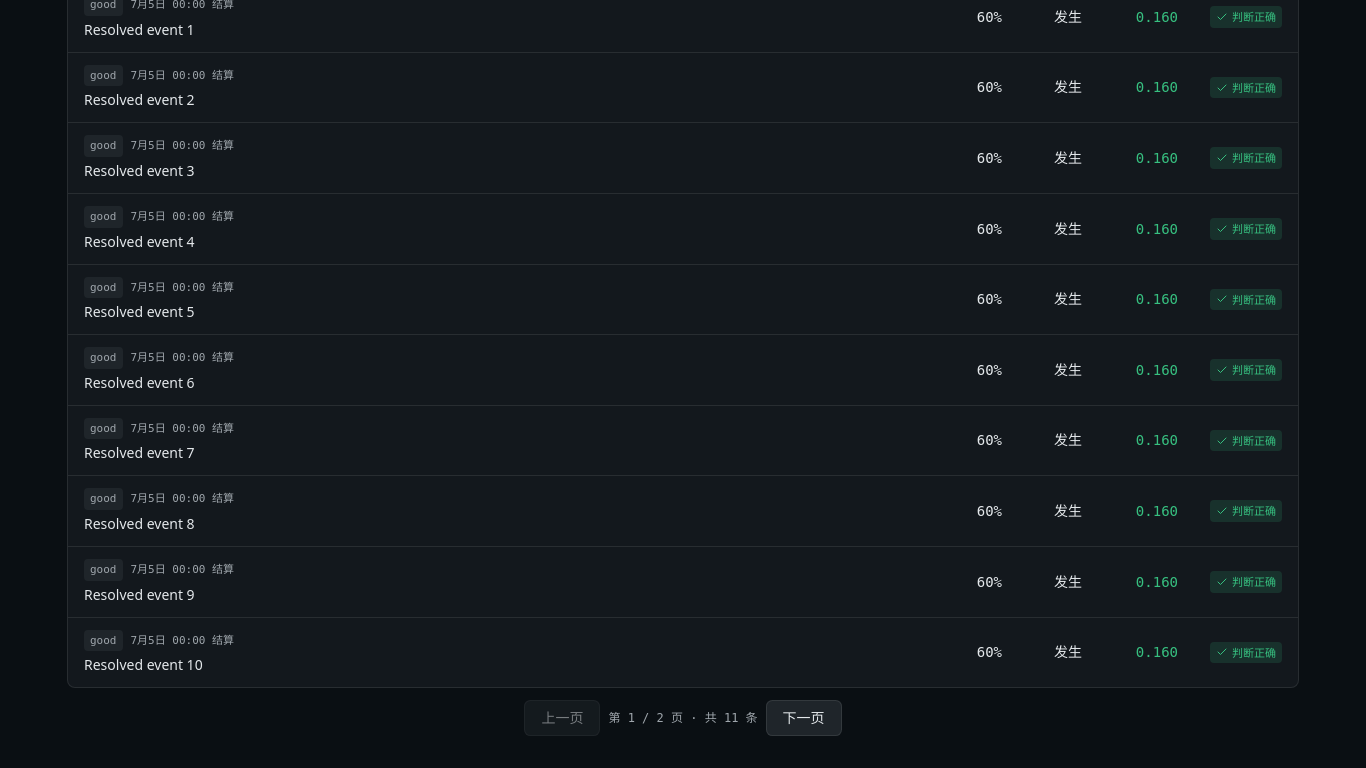
Test: HistoryPage › paginates resolved reviews with 10 records per page
The image size is (1366, 768).
(page scrolled)
Expected: the link "Resolved event 1" is shown, [84,20,195,39]
Expected: the text "Resolved event 11" is not shown
Click the button "下一页": {"x": 804, "y": 718} [766,700,842,736]
(page scrolled)
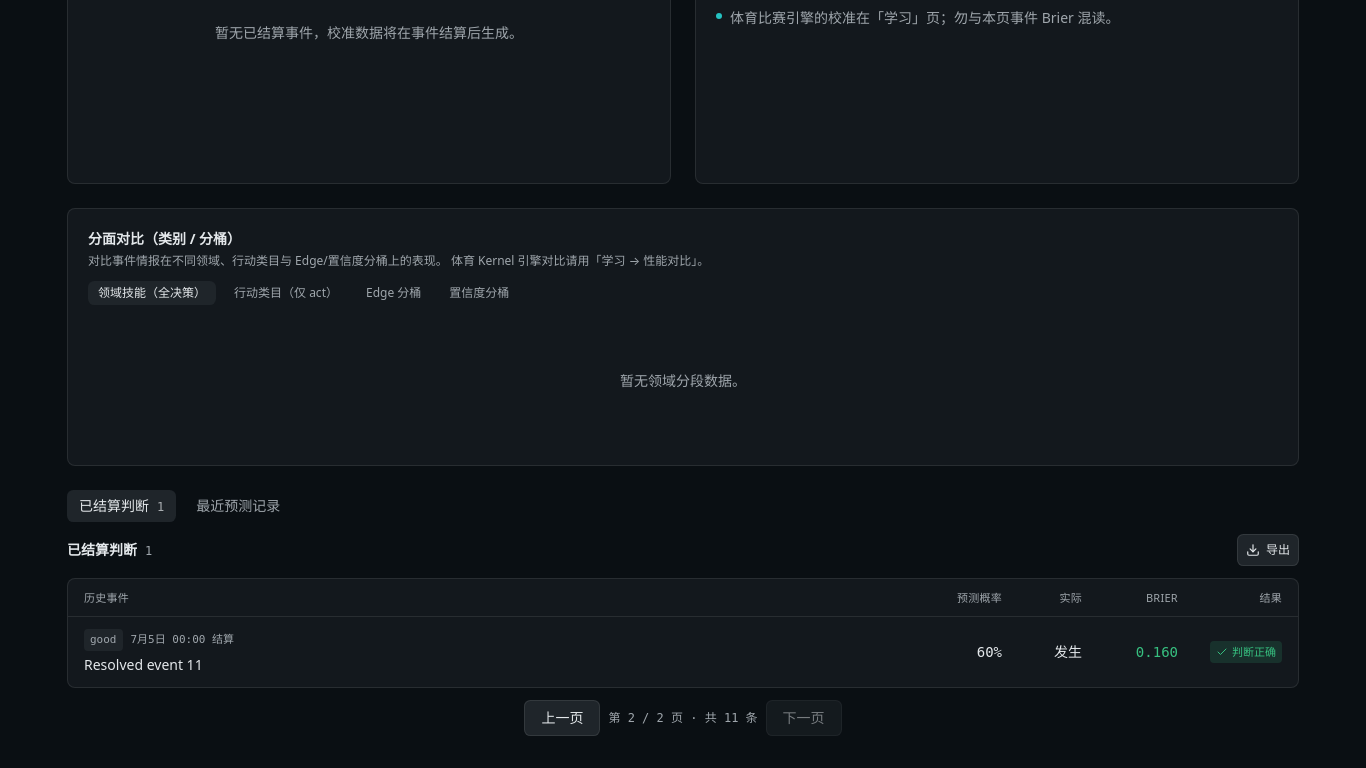
Now the link "Resolved event 11" is shown, box [84,655,203,674]
